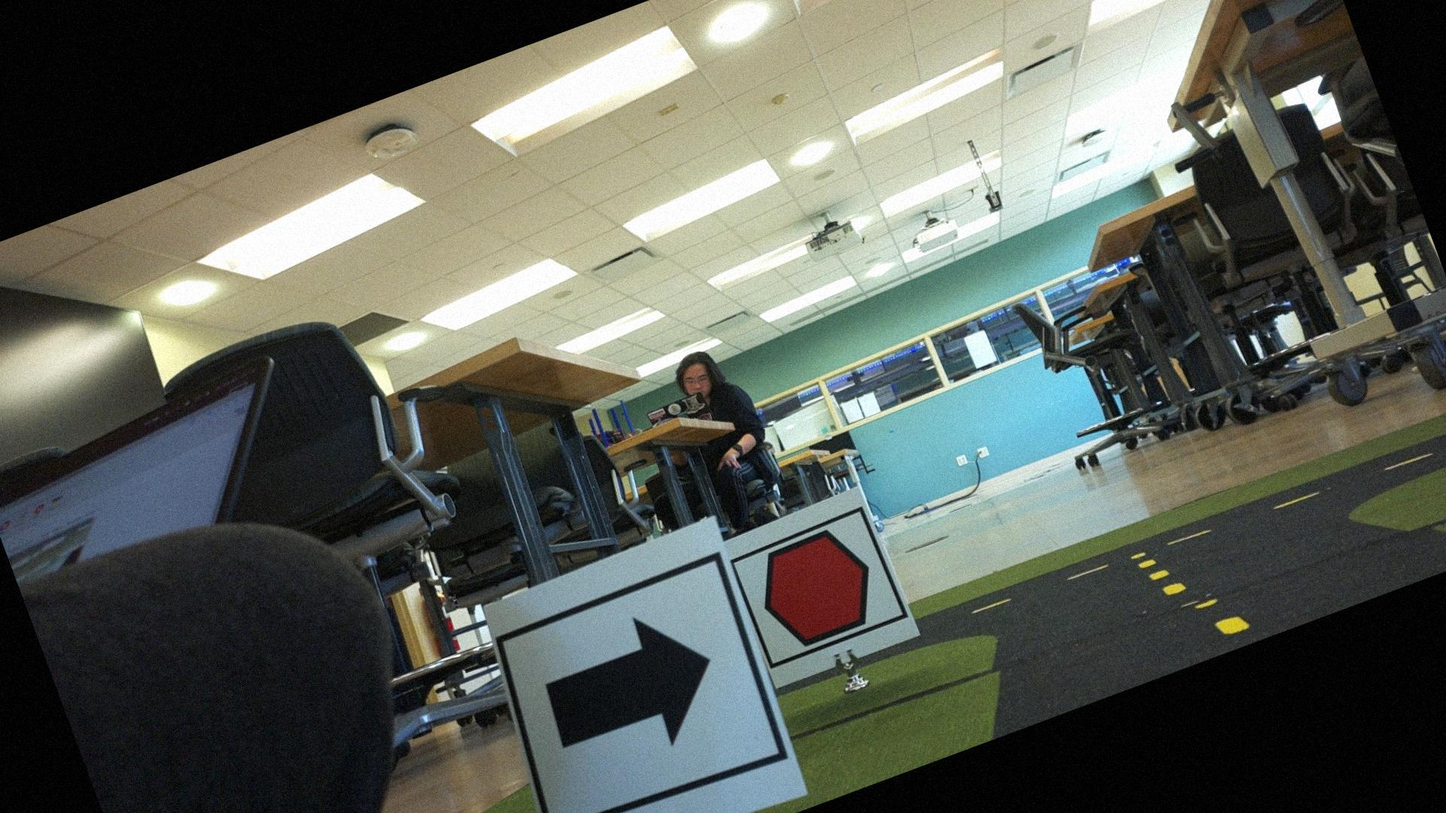stop: (733, 513, 901, 667)
turnright: (495, 559, 792, 812)
yellowline: (1136, 535, 1249, 661)
